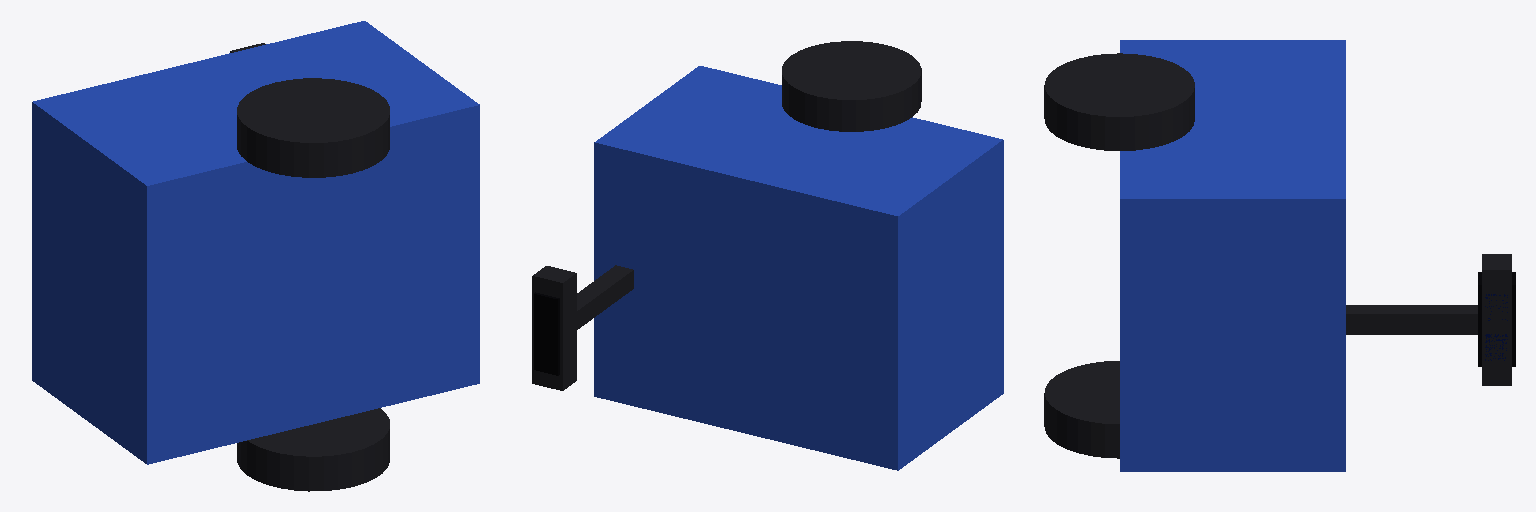
URDF robot description (mesh_diff_drive_nav):
<?xml version="1.0"?>
<!-- mesh_diff_drive_nav: sensor mast + stereo bar, authored for RNE.
     RNE's URDF importer (a) only reads INLINE <material><color> (named
     references fall back to gray), and (b) maps base_link visuals by identity,
     so origins below are in RNE Y-up metres (x forward, y up, z lateral with
     left = -Z) to match the navigation calibration (lenses at z=+/-0.03,
     optical centers at x=0.20, y=0.35 in base frame). Wheel links are kept
     without visuals for spawn compatibility; wheels are static visuals here
     (joint visual placement is unreliable in the importer). Physics and
     collision are unchanged from mesh_diff_drive. -->
<robot name="mesh_diff_drive_nav">
  <link name="base_link">
    <!-- Box primitive instead of the STL: RNE's importer mis-scales mesh
         visuals, while primitives render at the authored size. -->
    <visual>
      <origin xyz="0 0 0" rpy="0 0 0"/>
      <geometry>
        <box size="0.50 0.30 0.40"/>
      </geometry>
      <material>
        <color rgba="0.20 0.35 0.75 1.0"/>
      </material>
    </visual>
    <visual>
      <origin xyz="0.20 0.25 0" rpy="0 0 0"/>
      <geometry>
        <box size="0.03 0.20 0.03"/>
      </geometry>
      <material>
        <color rgba="0.15 0.15 0.17 1.0"/>
      </material>
    </visual>
    <visual>
      <origin xyz="0.20 0.35 0" rpy="0 0 0"/>
      <geometry>
        <box size="0.05 0.04 0.17"/>
      </geometry>
      <material>
        <color rgba="0.15 0.15 0.17 1.0"/>
      </material>
    </visual>
    <visual>
      <origin xyz="0.20 0.35 -0.03" rpy="0 0 0"/>
      <geometry>
        <box size="0.04 0.05 0.06"/>
      </geometry>
      <material>
        <color rgba="0.05 0.05 0.06 1.0"/>
      </material>
    </visual>
    <visual>
      <origin xyz="0.20 0.35 0.03" rpy="0 0 0"/>
      <geometry>
        <box size="0.04 0.05 0.06"/>
      </geometry>
      <material>
        <color rgba="0.05 0.05 0.06 1.0"/>
      </material>
    </visual>
    <visual>
      <origin xyz="0.2225 0.35 -0.03" rpy="0 0 0"/>
      <geometry>
        <box size="0.005 0.03 0.04"/>
      </geometry>
      <material>
        <color rgba="0.05 0.10 0.30 1.0"/>
      </material>
    </visual>
    <visual>
      <origin xyz="0.2225 0.35 0.03" rpy="0 0 0"/>
      <geometry>
        <box size="0.005 0.03 0.04"/>
      </geometry>
      <material>
        <color rgba="0.05 0.10 0.30 1.0"/>
      </material>
    </visual>
    <visual>
      <origin xyz="0 -0.15 -0.225" rpy="0 0 0"/>
      <geometry>
        <cylinder radius="0.10" length="0.05"/>
      </geometry>
      <material>
        <color rgba="0.15 0.15 0.17 1.0"/>
      </material>
    </visual>
    <visual>
      <origin xyz="0 -0.15 0.225" rpy="0 0 0"/>
      <geometry>
        <cylinder radius="0.10" length="0.05"/>
      </geometry>
      <material>
        <color rgba="0.15 0.15 0.17 1.0"/>
      </material>
    </visual>
    <collision>
      <origin xyz="0 0 0" rpy="0 0 0"/>
      <geometry>
        <box size="0.5 0.3 0.4"/>
      </geometry>
    </collision>
  </link>

  <link name="left_wheel">
    <collision>
      <origin xyz="0 0 0" rpy="1.5708 0 0"/>
      <geometry>
        <cylinder radius="0.1" length="0.05"/>
      </geometry>
    </collision>
  </link>

  <link name="right_wheel">
    <collision>
      <origin xyz="0 0 0" rpy="1.5708 0 0"/>
      <geometry>
        <cylinder radius="0.1" length="0.05"/>
      </geometry>
    </collision>
  </link>

  <joint name="left_wheel_joint" type="continuous">
    <parent link="base_link"/>
    <child link="left_wheel"/>
    <origin xyz="0 0.225 0" rpy="0 0 0"/>
    <axis xyz="0 0 1"/>
  </joint>

  <joint name="right_wheel_joint" type="continuous">
    <parent link="base_link"/>
    <child link="right_wheel"/>
    <origin xyz="0 -0.225 0" rpy="0 0 0"/>
    <axis xyz="0 0 1"/>
  </joint>
</robot>

--- Render facts (derived) ---
Views: 3 orthographic renders of the robot side by side, from view 1: azimuth 30°, elevation 25°; view 2: azimuth 150°, elevation 25°; view 3: azimuth 270°, elevation 25°.
Model mesh_diff_drive_nav with 3 links and 2 joints (2 continuous), rooted at base_link, posed all joints at 0.
Links seen in each view (by area): view 1: base_link; view 2: base_link; view 3: base_link.
Boxes of the visible links, x1,y1,x2,y2 form: base_link: [32, 21, 479, 491]; base_link: [532, 41, 1003, 470]; base_link: [1044, 40, 1515, 471].
Size in the robot's own frame: 0.5 by 0.625 by 0.5 metres.
Geometry: primitives only (box / cylinder / sphere), no mesh files.
